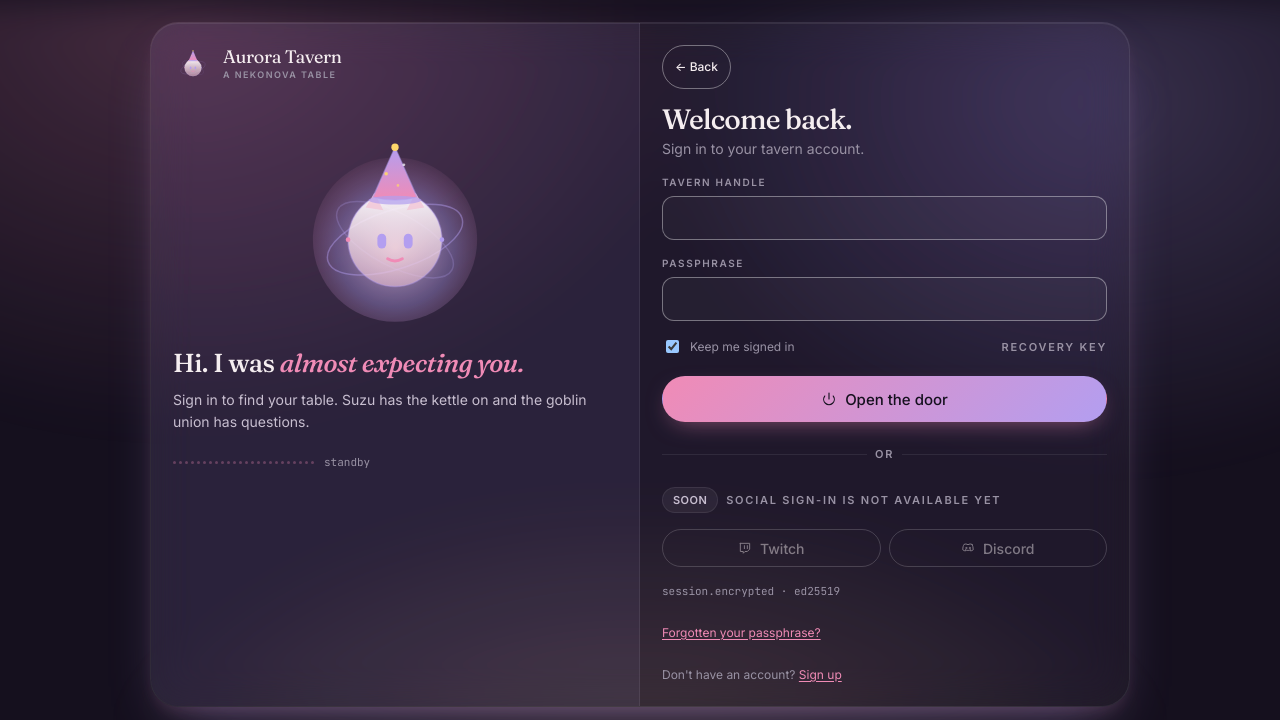
Test case: 423 with locked_until: says the account is locked and for how long, never "check your connection"
The image size is (1280, 720).
Type "alice" into the field labelled "Tavern handle" at x=884, y=218, box [662,196,1107,240]
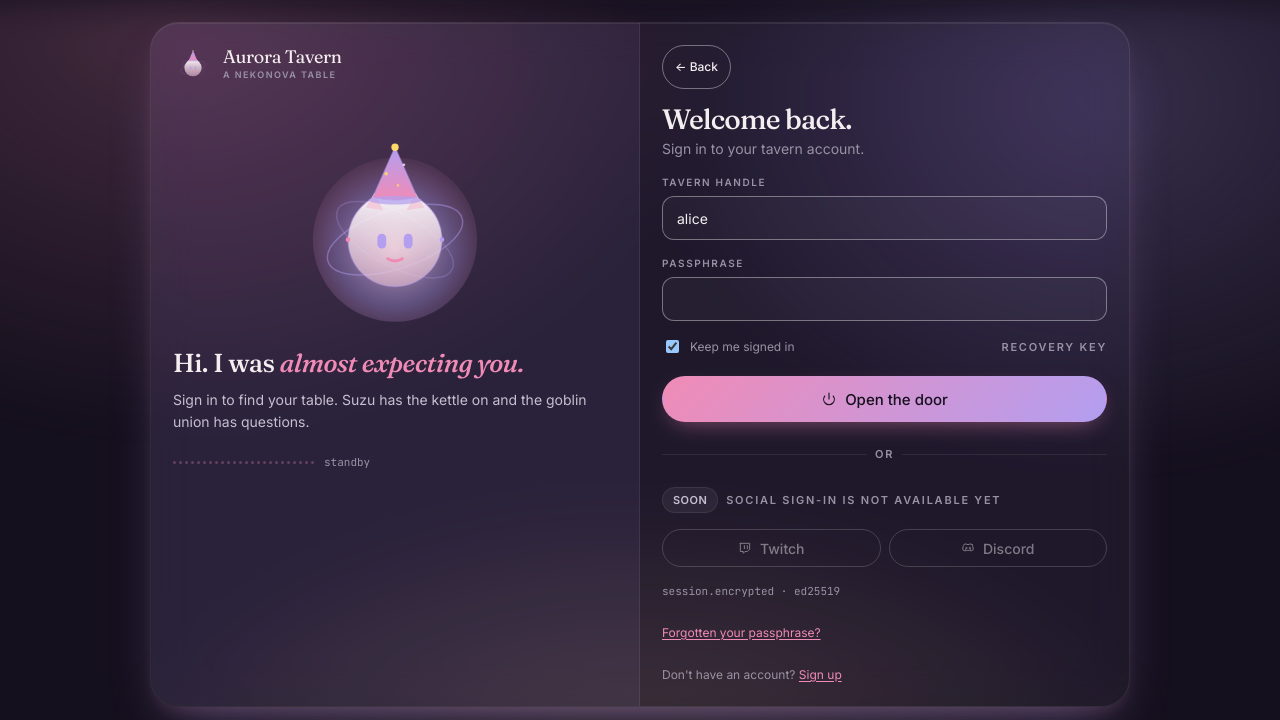
Type "right-one" into the password field labelled "Passphrase" at x=884, y=299, box [662,277,1107,321]
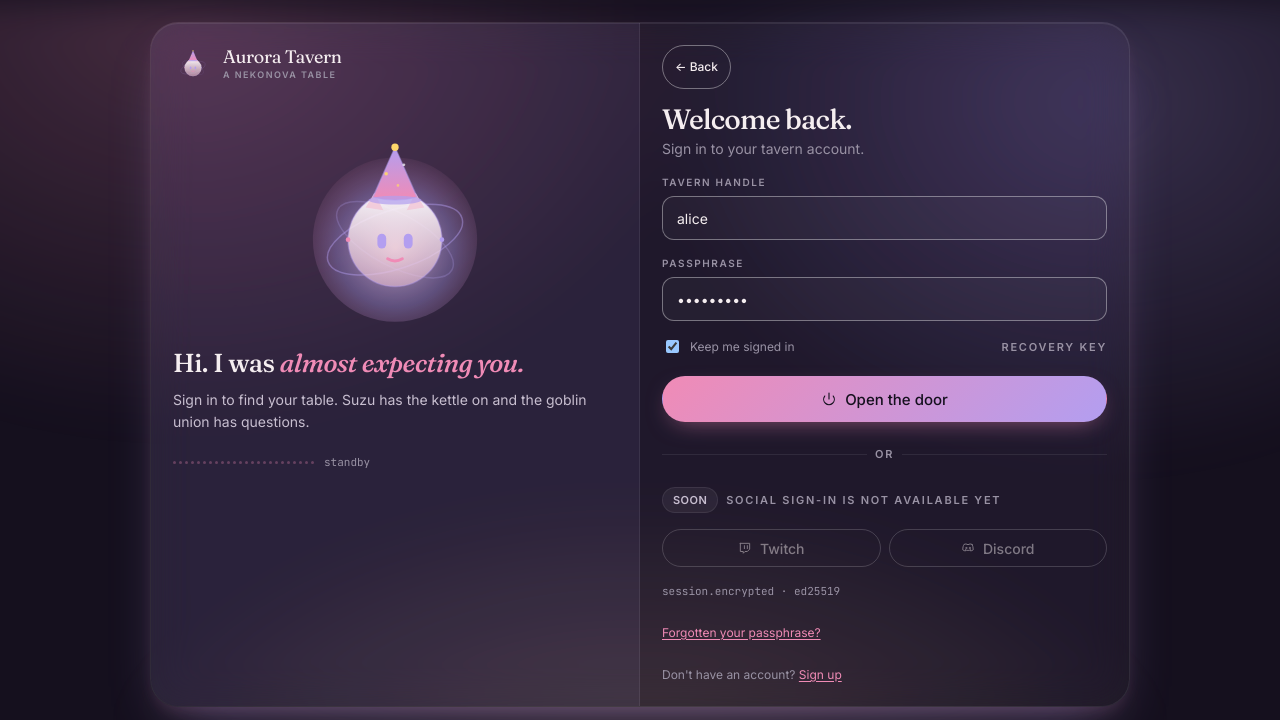
Submit the form labelled "Tavern handle", box [640,23,1129,706]
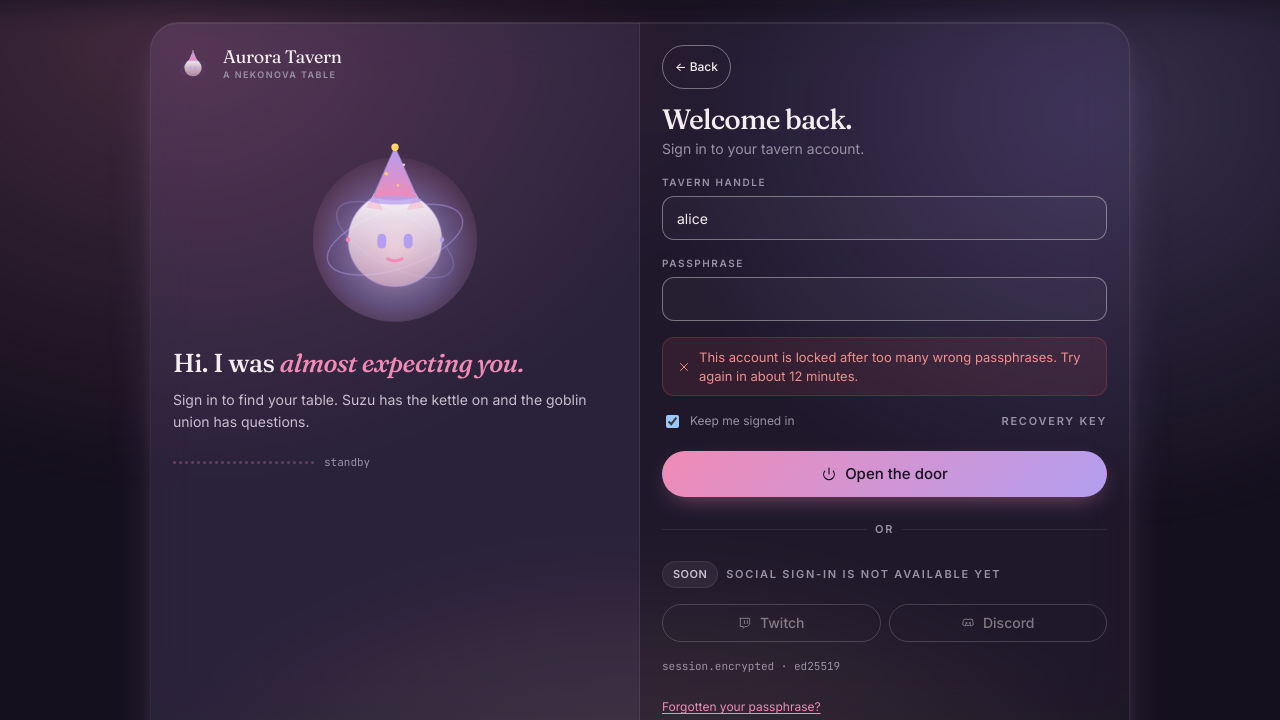
Now the message shows "locked", box [699,349,1081,384]
